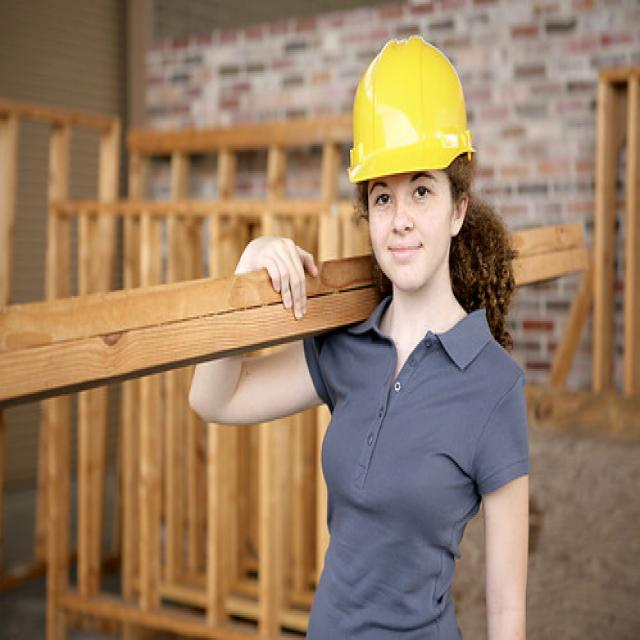Safety-Helmet: (346, 35, 480, 186)
